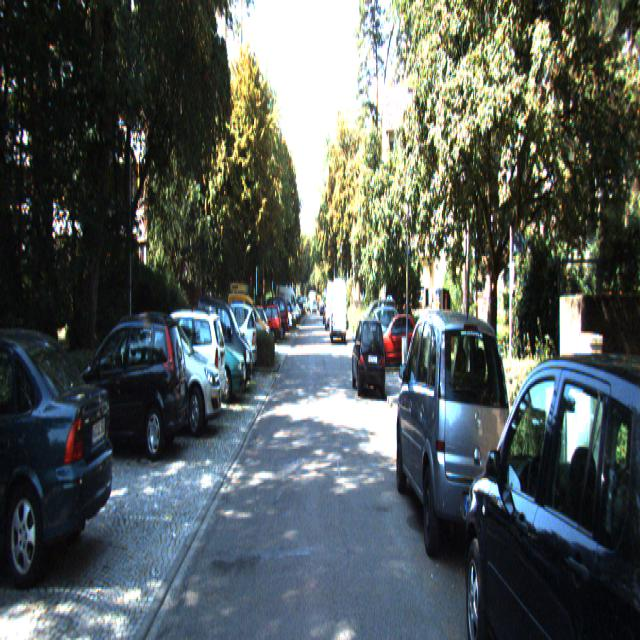Car: (466, 343, 639, 638), (396, 308, 517, 579), (0, 320, 117, 579), (63, 310, 188, 460), (106, 311, 223, 442), (129, 307, 227, 420), (176, 312, 246, 408), (193, 297, 252, 394), (374, 312, 427, 369), (352, 315, 388, 398), (246, 304, 282, 346), (256, 296, 289, 341), (330, 278, 347, 340), (325, 279, 338, 329)
